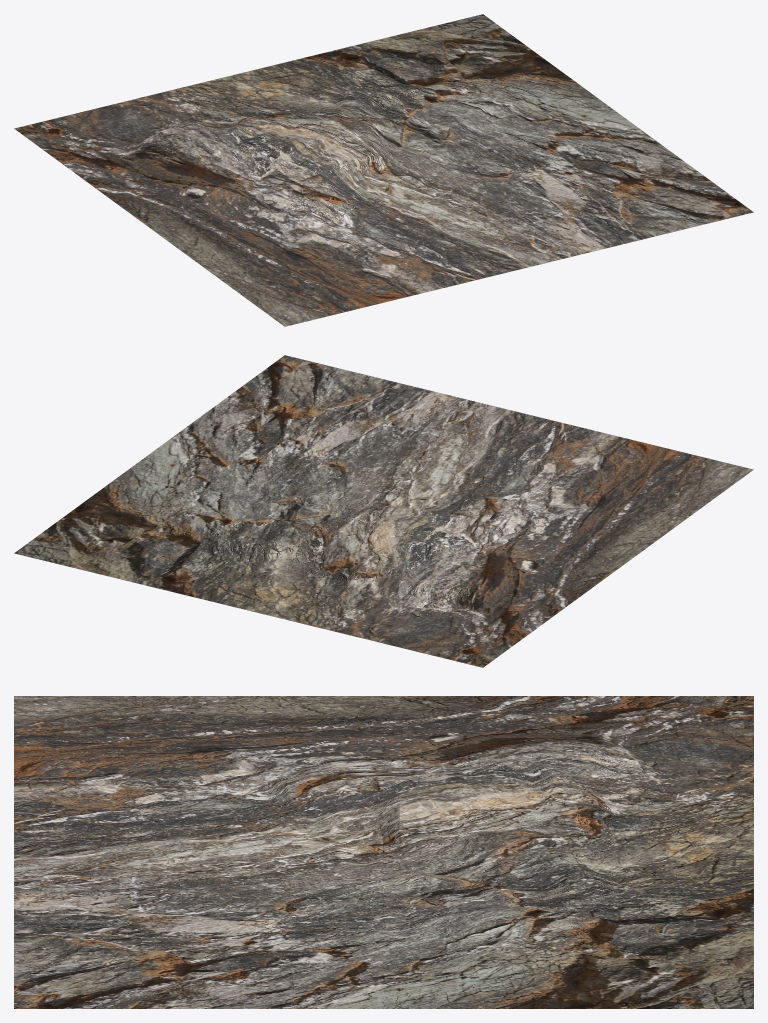
The model's file is map1.gltf.
The picture shows the model from 3 angles, top to bottom: view 1: azimuth 30°, elevation 25°; view 2: azimuth 150°, elevation 25°; view 3: azimuth 270°, elevation 25°; orthographic projection. The views are drawn at different scales.
Parts seen in each view (by area): view 1: Plane; view 2: Plane; view 3: Plane.
Boxes of the visible parts, box(x1,y1,x2,y2) form: Plane: box(14, 14, 753, 326); Plane: box(14, 355, 753, 667); Plane: box(14, 696, 753, 1008).
Bounding box in the file's own units: 10 × 0.438 × 10.
Materials: 1 (1 with a texture image).
